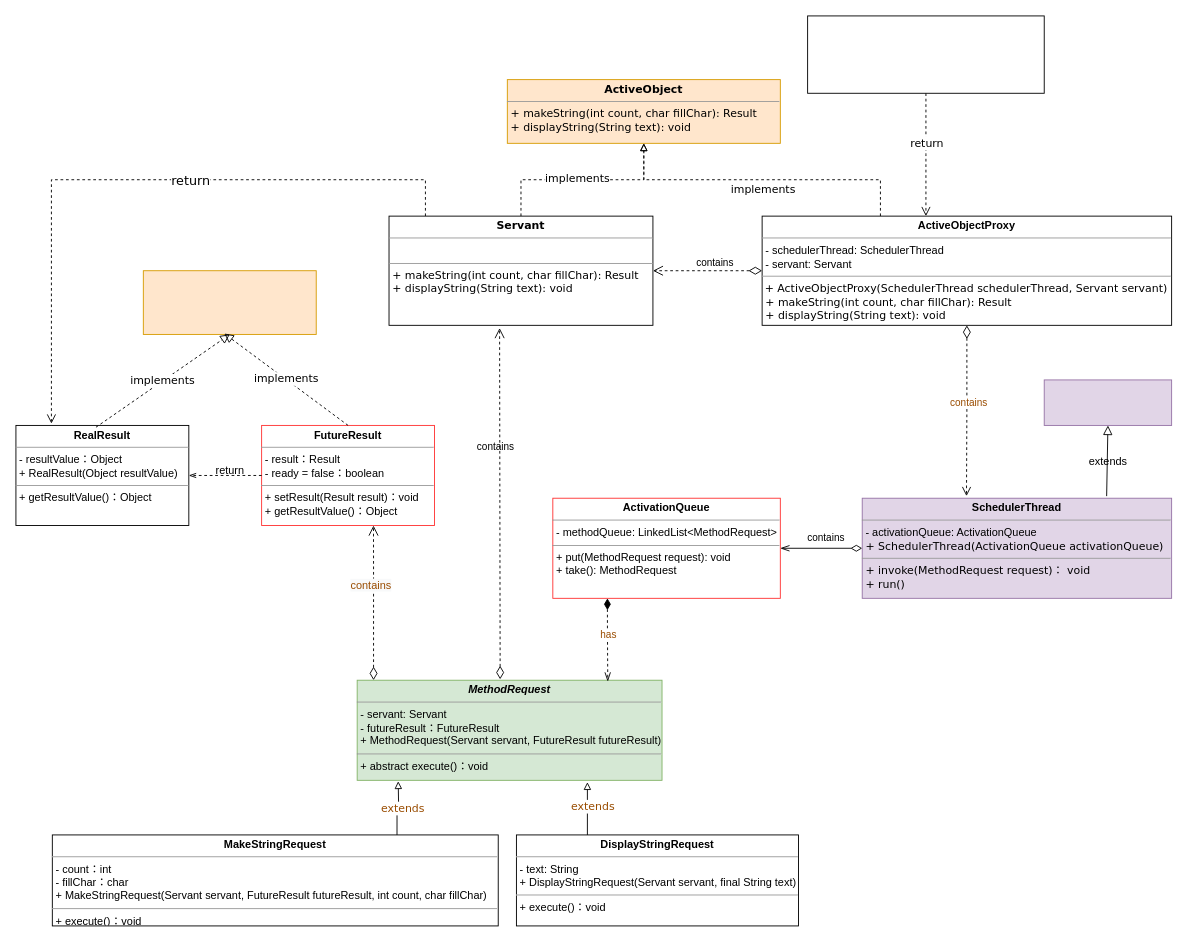
Image size: 1188x942. Some labels were removed from this diagram. Here are the shapes that lost their labels. From the top down, the centre of each, then its label:
At [925,54]: "ActiveObjectFactory + static createActiveObject(): ActiveObject".
At [229,302]: "Result + getResultValue()：Object".
At [1107,402]: "Thread".
